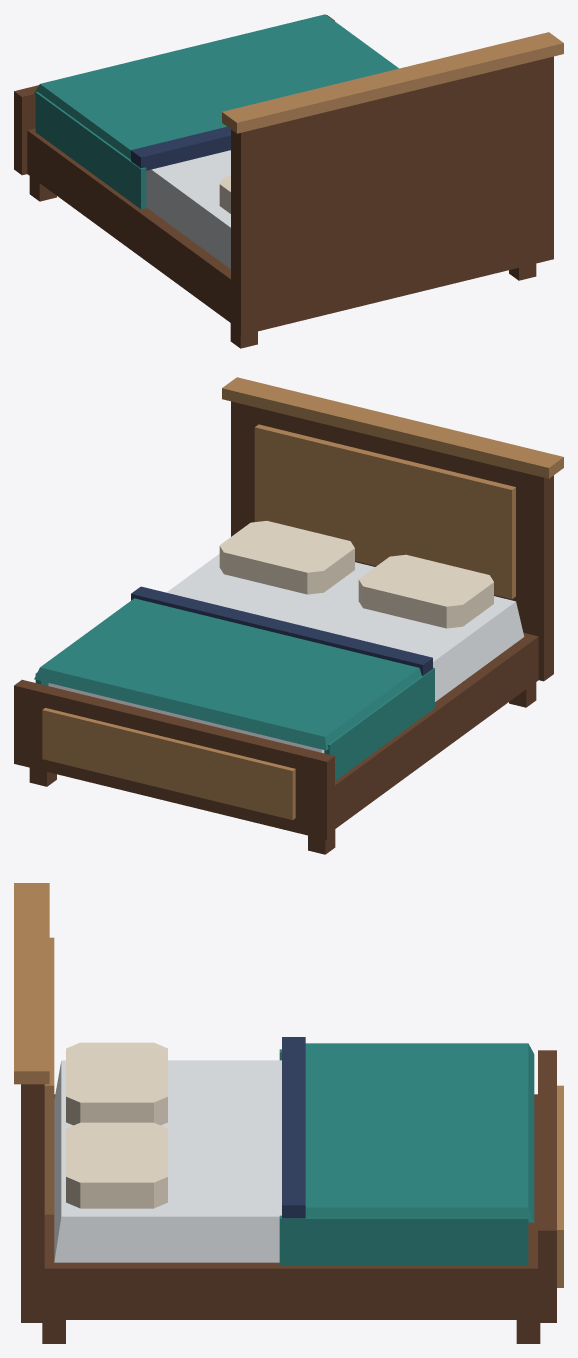
The model's file is bed_double.glb.
3 renders of one model, top to bottom at view 1: azimuth 30°, elevation 25°; view 2: azimuth 150°, elevation 25°; view 3: azimuth 270°, elevation 25°, orthographic. The views are drawn at different scales.
Parts seen in each view (by area): view 1: Body; view 2: Body; view 3: Body.
Part boxes in pixels (left/top/right/bottom): Body: left=14, top=14, right=563, bottom=348; Body: left=14, top=377, right=563, bottom=854; Body: left=14, top=883, right=563, bottom=1343.
Size of the model in its own units: 1.88 by 1.31 by 2.32.
